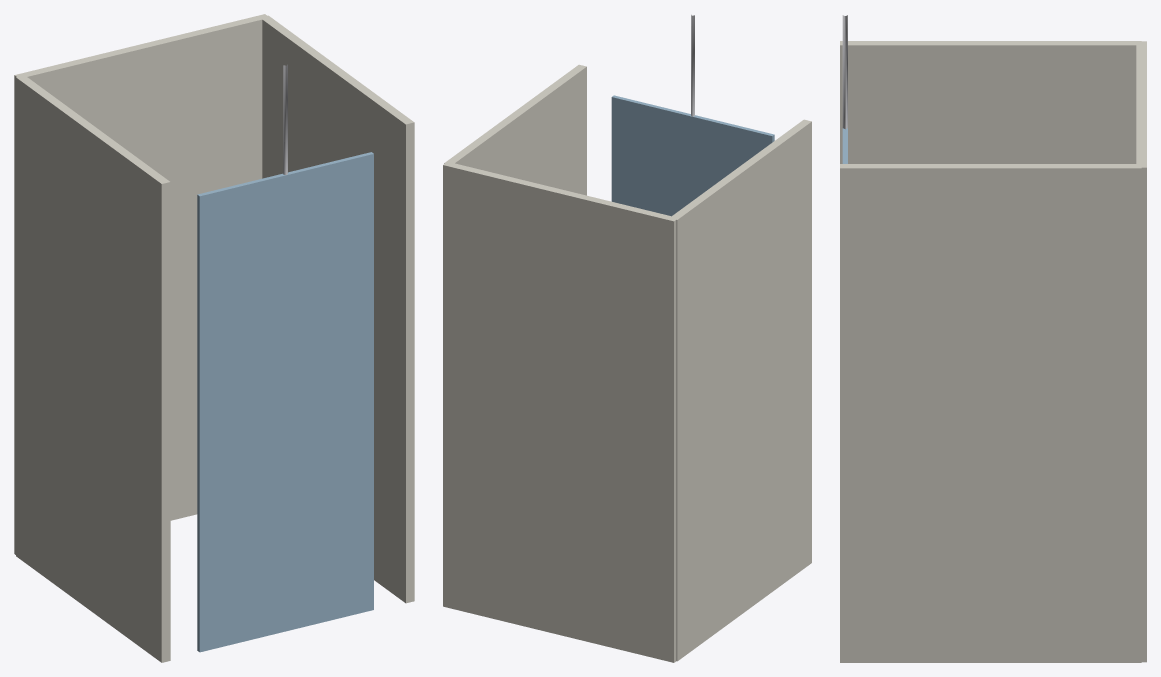
File: fitting_room.glb
3 renders of one model, left to right at view 1: azimuth 30°, elevation 25°; view 2: azimuth 150°, elevation 25°; view 3: azimuth 270°, elevation 25°, orthographic. The views are drawn at different scales.
Parts seen in each view (by area): view 1: walls, curtain; view 2: walls, curtain; view 3: walls, rod.
Boxes of the visible parts, left/top/right/bottom form: walls: left=14, top=14, right=414, bottom=662; curtain: left=197, top=152, right=373, bottom=652; walls: left=443, top=64, right=811, bottom=662; curtain: left=611, top=95, right=774, bottom=216; walls: left=840, top=41, right=1146, bottom=662; rod: left=842, top=15, right=847, bottom=129.
Size of the model in its own units: 1.16 by 2.48 by 1.18.
